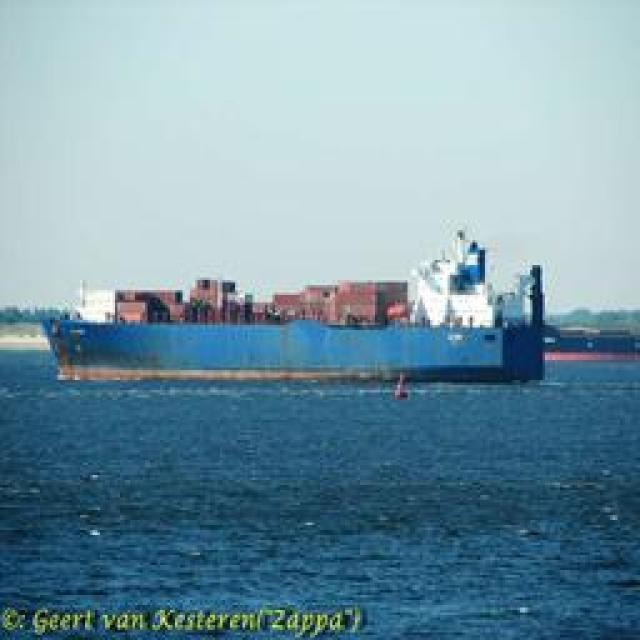CIV_Ship: (49, 228, 549, 388)
